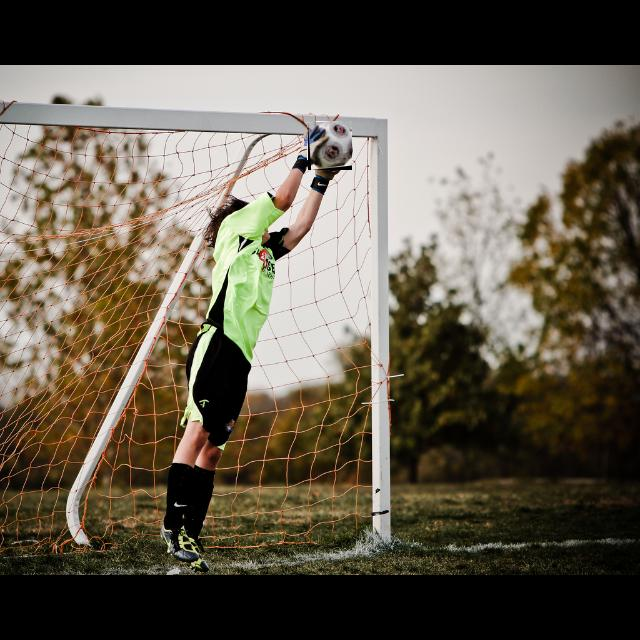Football: (308, 122, 352, 170)
